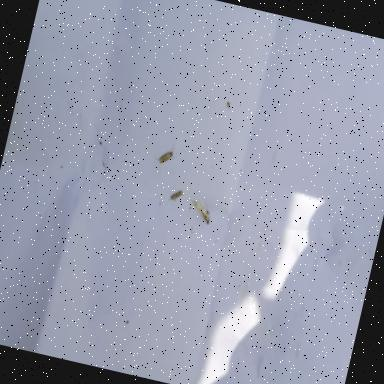pbw: (184, 198, 214, 225), (157, 150, 176, 166), (170, 188, 185, 203)
